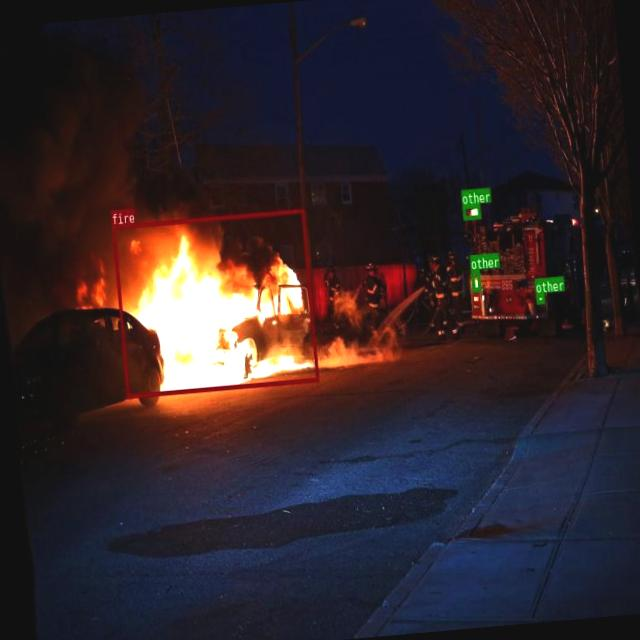fire: (111, 208, 318, 397)
